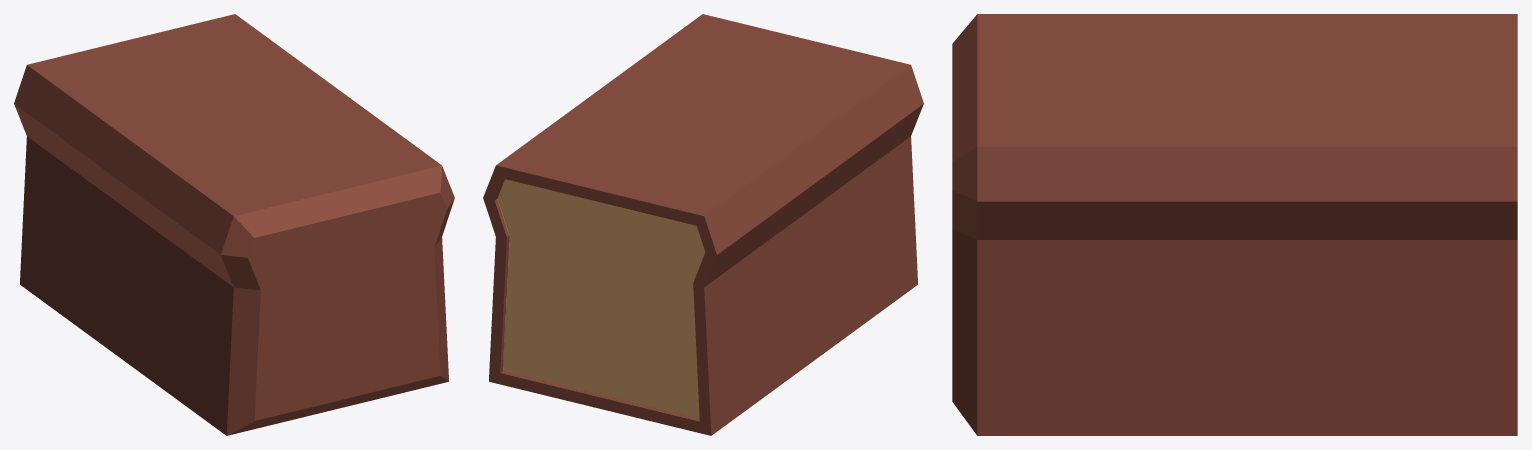
Rendered from Bread.fbx.
The picture shows the model from 3 angles, left to right: view 1: azimuth 30°, elevation 25°; view 2: azimuth 150°, elevation 25°; view 3: azimuth 270°, elevation 25°; orthographic projection. The views are drawn at different scales.
Parts seen in each view (by area): view 1: Cube; view 2: Cube; view 3: Cube.
Boxes of the visible parts, box(x1,y1,x2,y2) form: Cube: box(14, 14, 454, 435); Cube: box(483, 14, 923, 435); Cube: box(952, 14, 1517, 435).
Bounding box in the file's own units: 11.24 × 10 × 18.
2 materials, 2 textured.
